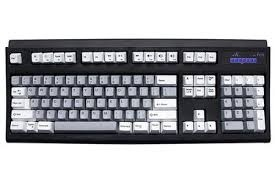keyboard: (3, 29, 265, 181)
